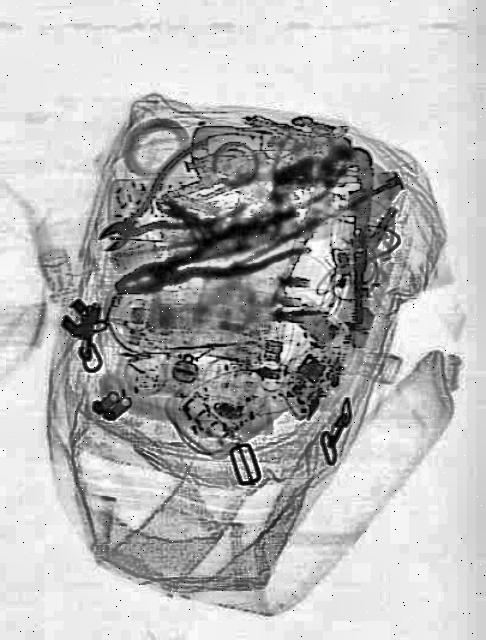Pliers: (88, 131, 254, 287), (109, 204, 317, 320)
